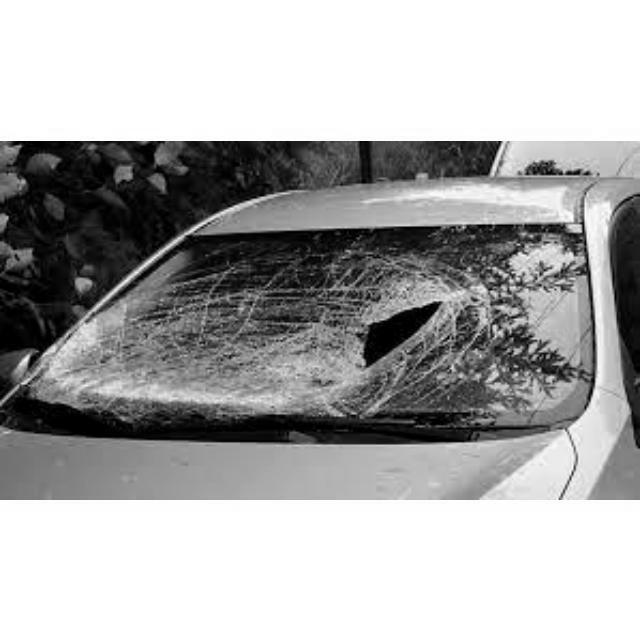Front-windscreen-damage: (1, 216, 628, 479)
